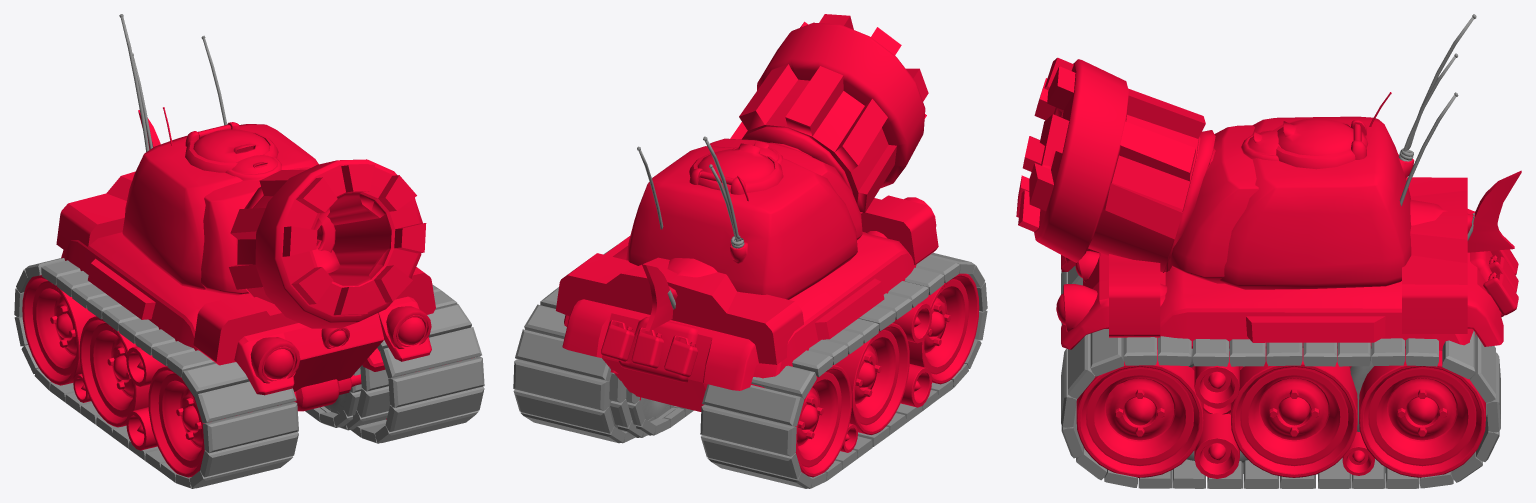
Rendered from Tanks.fbx.
3 renders of one model, left to right at view 1: azimuth 30°, elevation 25°; view 2: azimuth 150°, elevation 25°; view 3: azimuth 270°, elevation 25°, orthographic. The views are drawn at different scales.
Visible parts, largest first — view 1: TankHeavyChassis, TankHeavyTurret, TankHeavyTracksRight, TankTurret, TankHeavyTracksLeft, Shark, TankTracksLeft, TankTracksLeft.001, sharkMain, TankTurret_001; view 2: TankHeavyChassis, TankHeavyTurret, TankTurret, TankHeavyTracksRight, TankHeavyTracksLeft, Shark, sharkMain, TankTracksLeft, TankTracksLeft.001, TankTurret_001; view 3: TankHeavyChassis, TankHeavyTurret, TankTurret, TankHeavyTracksLeft, Shark, sharkMain, TankTurret_001.
Part boxes in pixels (x1=…): TankHeavyChassis: x1=22, y1=171, x2=435, y2=477; TankHeavyTurret: x1=163, y1=107, x2=426, y2=328; TankHeavyTracksRight: x1=14, y1=258, x2=298, y2=488; TankTurret: x1=119, y1=14, x2=335, y2=289; TankHeavyTracksLeft: x1=324, y1=284, x2=484, y2=443; Shark: x1=61, y1=232, x2=385, y2=371; TankTracksLeft: x1=320, y1=365, x2=390, y2=430; TankTracksLeft.001: x1=305, y1=367, x2=361, y2=427; sharkMain: x1=138, y1=110, x2=340, y2=273; TankTurret_001: x1=132, y1=35, x2=227, y2=149; TankHeavyChassis: x1=556, y1=195, x2=979, y2=477; TankHeavyTurret: x1=710, y1=14, x2=928, y2=239; TankTurret: x1=626, y1=136, x2=857, y2=299; TankHeavyTracksRight: x1=700, y1=252, x2=987, y2=488; TankHeavyTracksLeft: x1=513, y1=241, x2=673, y2=443; Shark: x1=564, y1=231, x2=916, y2=388; sharkMain: x1=642, y1=258, x2=717, y2=331; TankTracksLeft: x1=609, y1=372, x2=679, y2=437; TankTracksLeft.001: x1=626, y1=389, x2=693, y2=435; TankTurret_001: x1=637, y1=146, x2=738, y2=241; TankHeavyChassis: x1=1056, y1=177, x2=1518, y2=478; TankHeavyTurret: x1=1016, y1=57, x2=1391, y2=283; TankTurret: x1=1210, y1=14, x2=1476, y2=289; TankHeavyTracksLeft: x1=1061, y1=329, x2=1500, y2=488; Shark: x1=1157, y1=251, x2=1503, y2=350; sharkMain: x1=1410, y1=170, x2=1521, y2=252; TankTurret_001: x1=1399, y1=53, x2=1458, y2=206.
Size of the model in its own units: 213 by 249 by 297.
